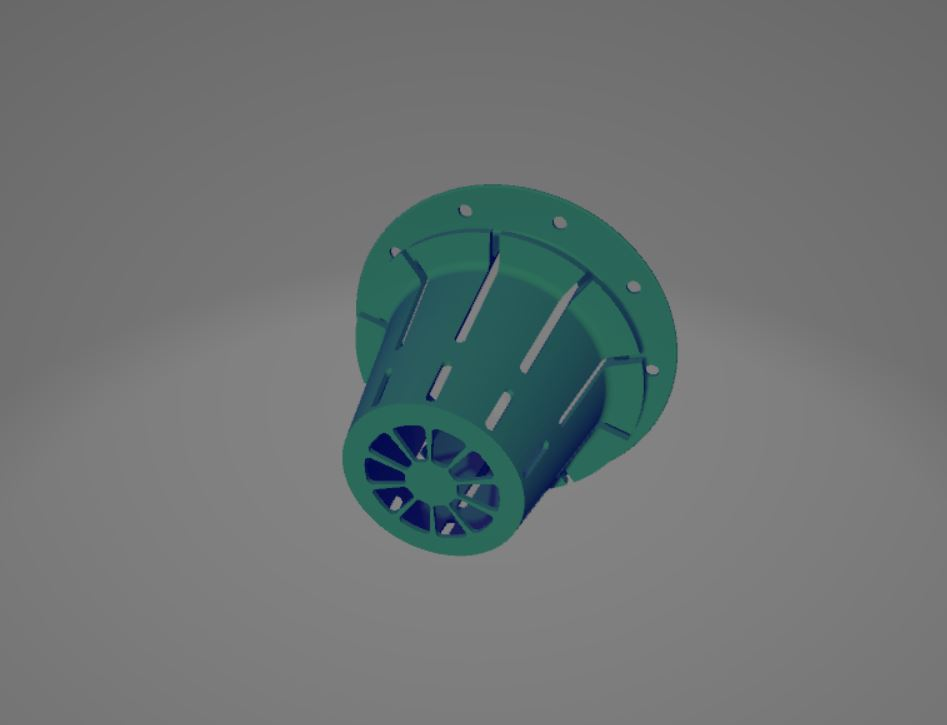basket: (316, 170, 681, 574)
